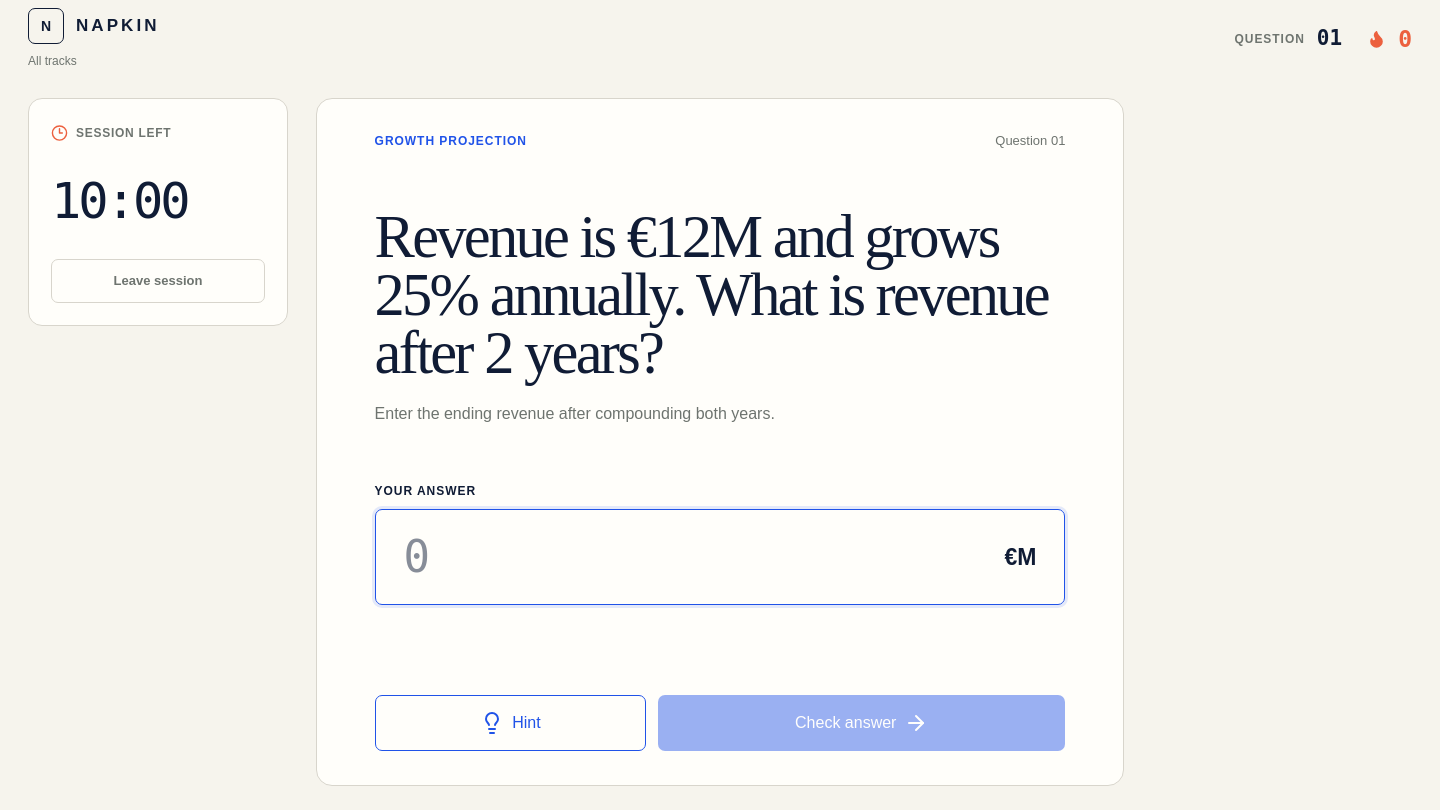
Test case: Napkin V1 flow › keeps the current question open when saving an answer fails
Type "18.75" into the field labelled "Your answer" at (676, 558), box [376,524,976,590]
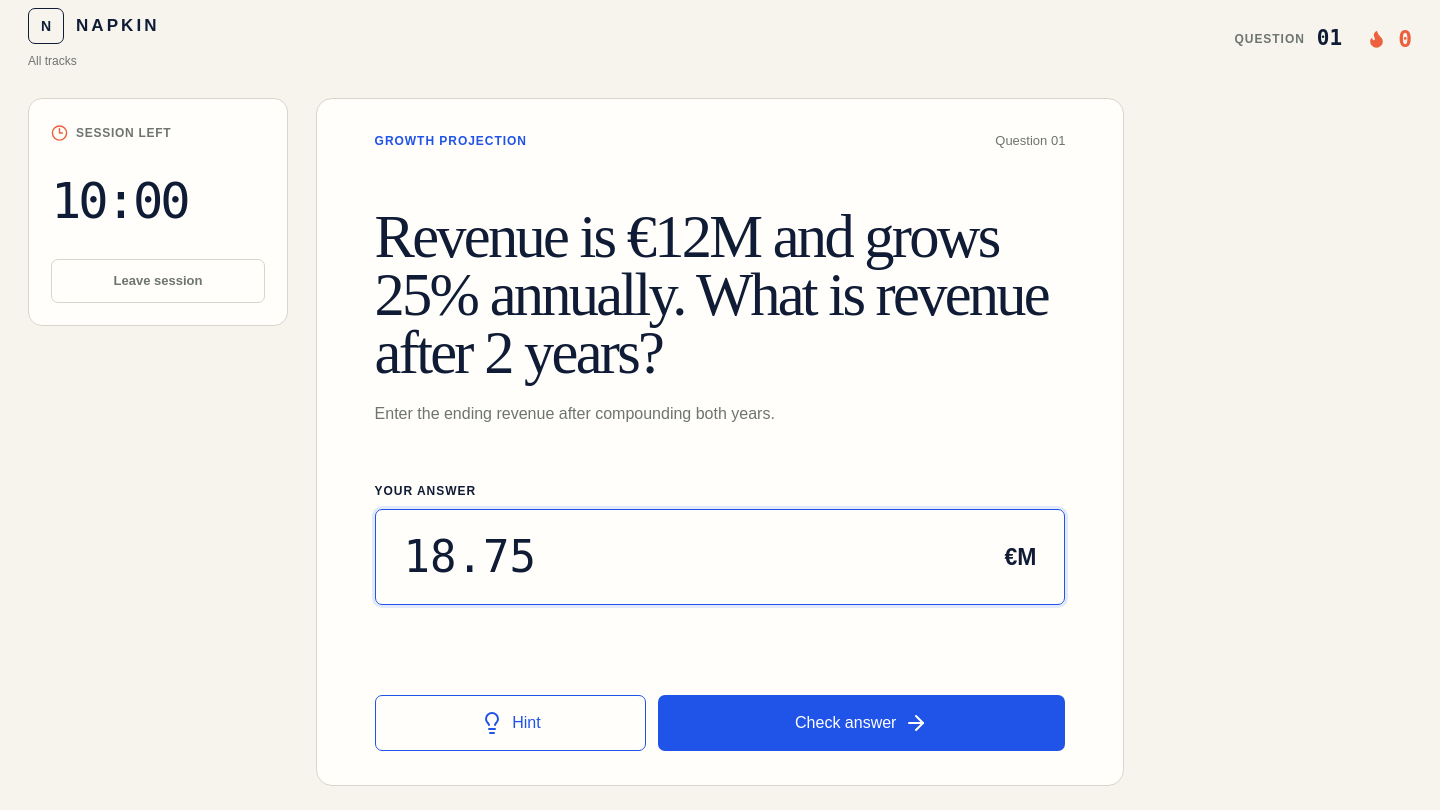
Click the button "Check answer" at (862, 723), box [658,695,1065,751]
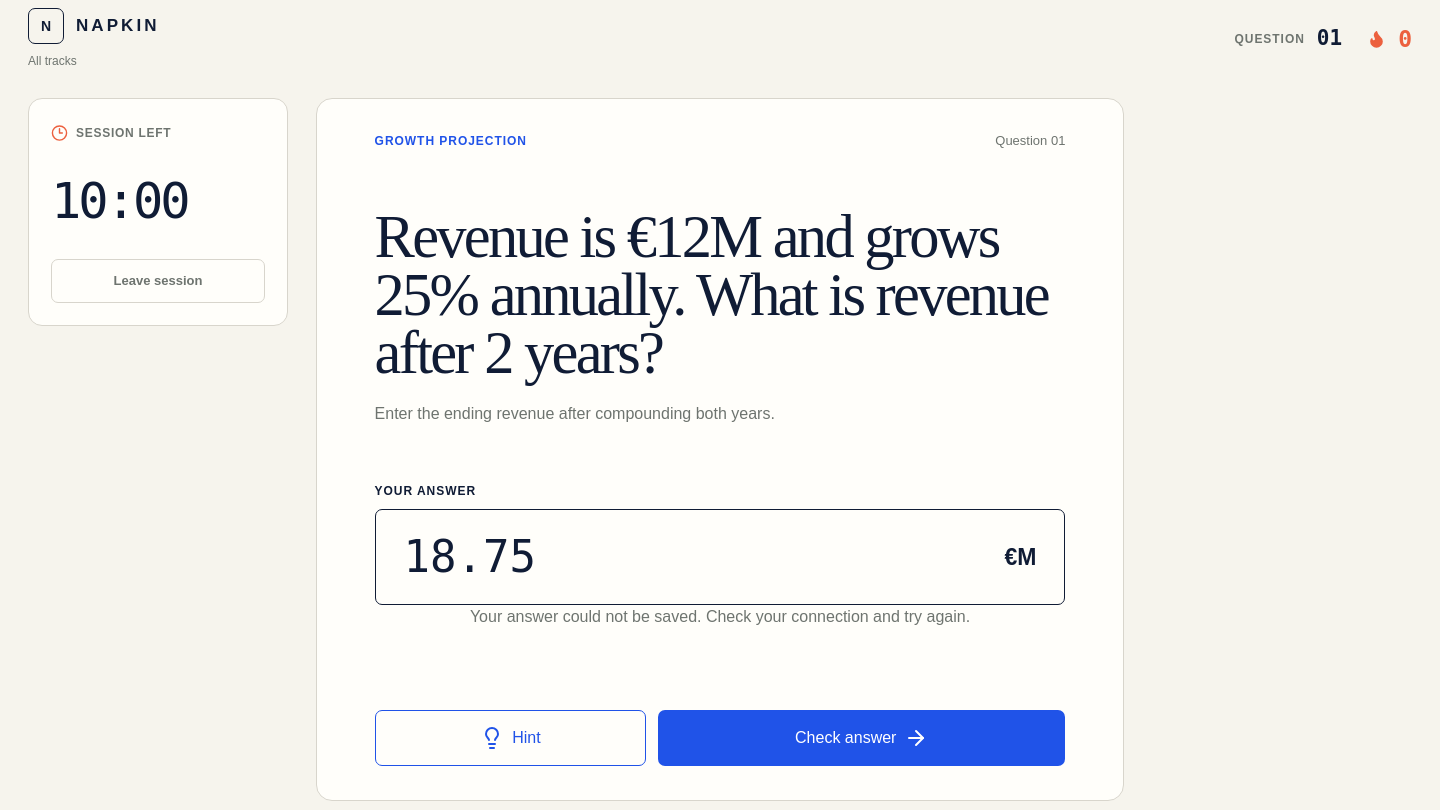
Result: the message shows "could not be saved" at [470,608,970,626]
